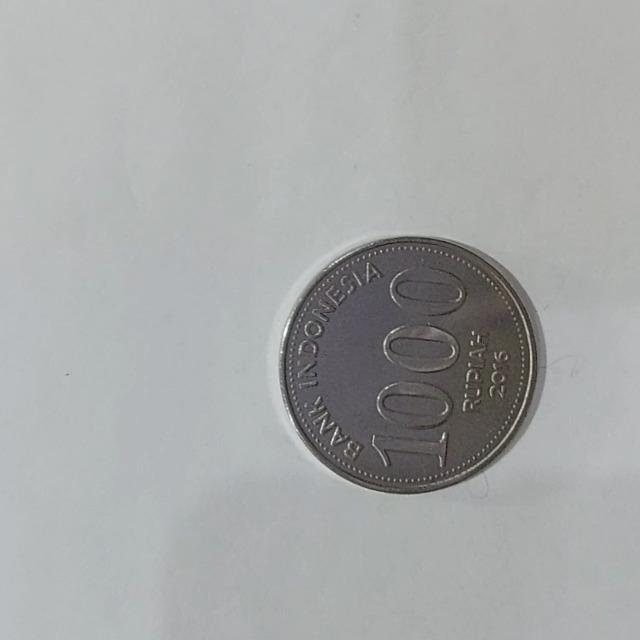Rp100: (277, 233, 544, 495)
